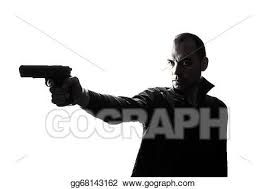gun: (15, 63, 78, 107)
